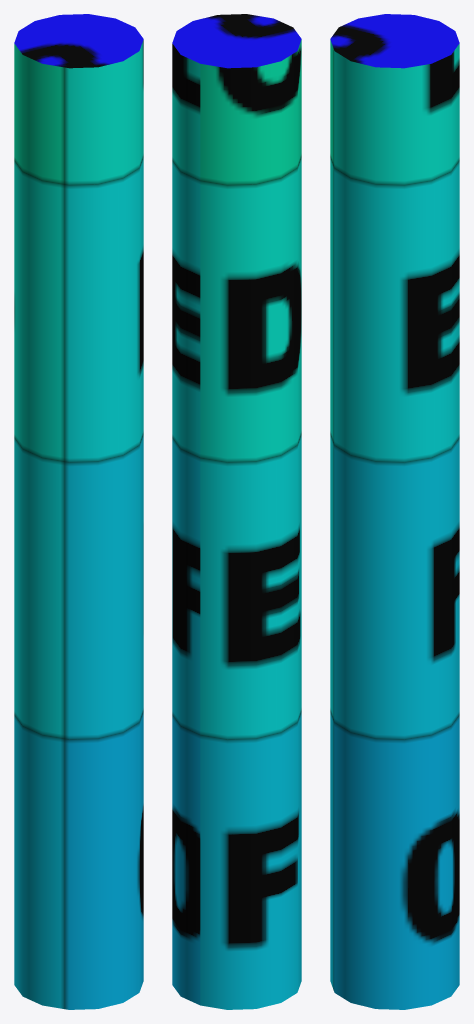
Rendered from SM_Module_Pillar_8.fbx.
3 renders of one model, left to right at view 1: azimuth 30°, elevation 25°; view 2: azimuth 210°, elevation 25°; view 3: azimuth 330°, elevation 25°, orthographic.
Parts seen in each view (by area): view 1: SM_Module_Pillar_8; view 2: SM_Module_Pillar_8; view 3: SM_Module_Pillar_8.
Boxes of the visible parts, x1,y1,x2,y2 form: SM_Module_Pillar_8: (14,14,143,1009); SM_Module_Pillar_8: (172,14,301,1009); SM_Module_Pillar_8: (330,14,459,1009).
Bounding box in the file's own units: 100 × 800 × 97.49.
Materials: 1 (1 with a texture image).
